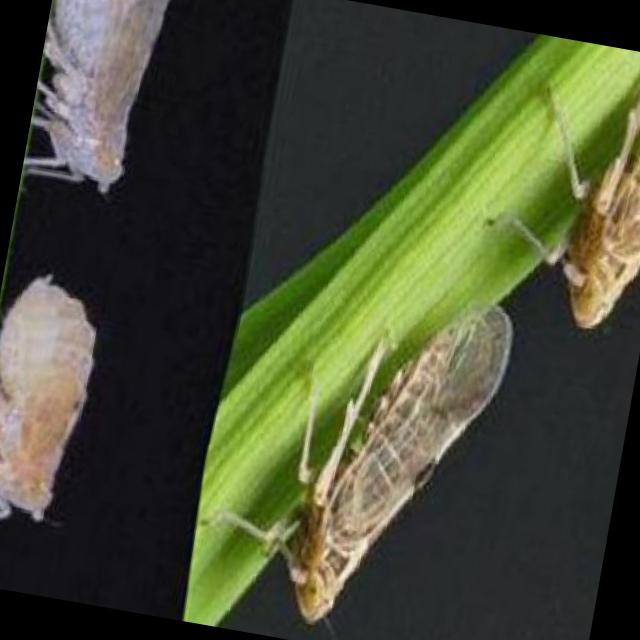brown-planthopper: (223, 261, 534, 640), (0, 258, 110, 564), (540, 43, 640, 344), (22, 0, 169, 199)
